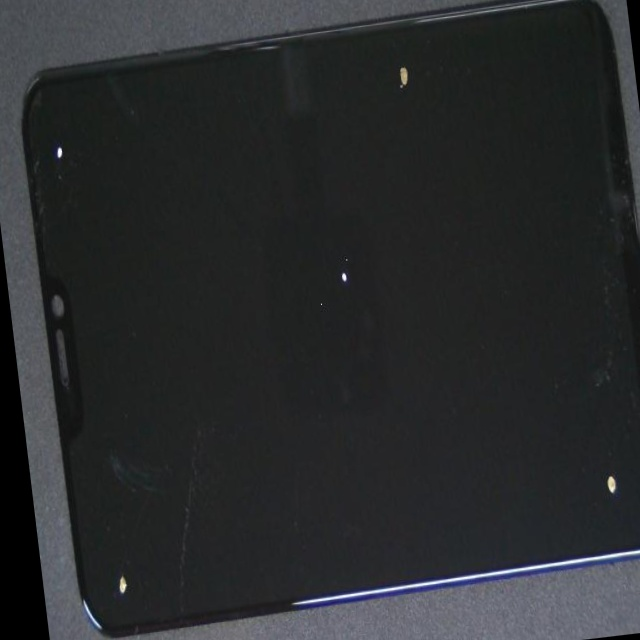stain: (288, 212, 640, 640), (170, 57, 518, 444), (154, 0, 609, 187), (38, 292, 147, 640), (0, 62, 105, 286)
